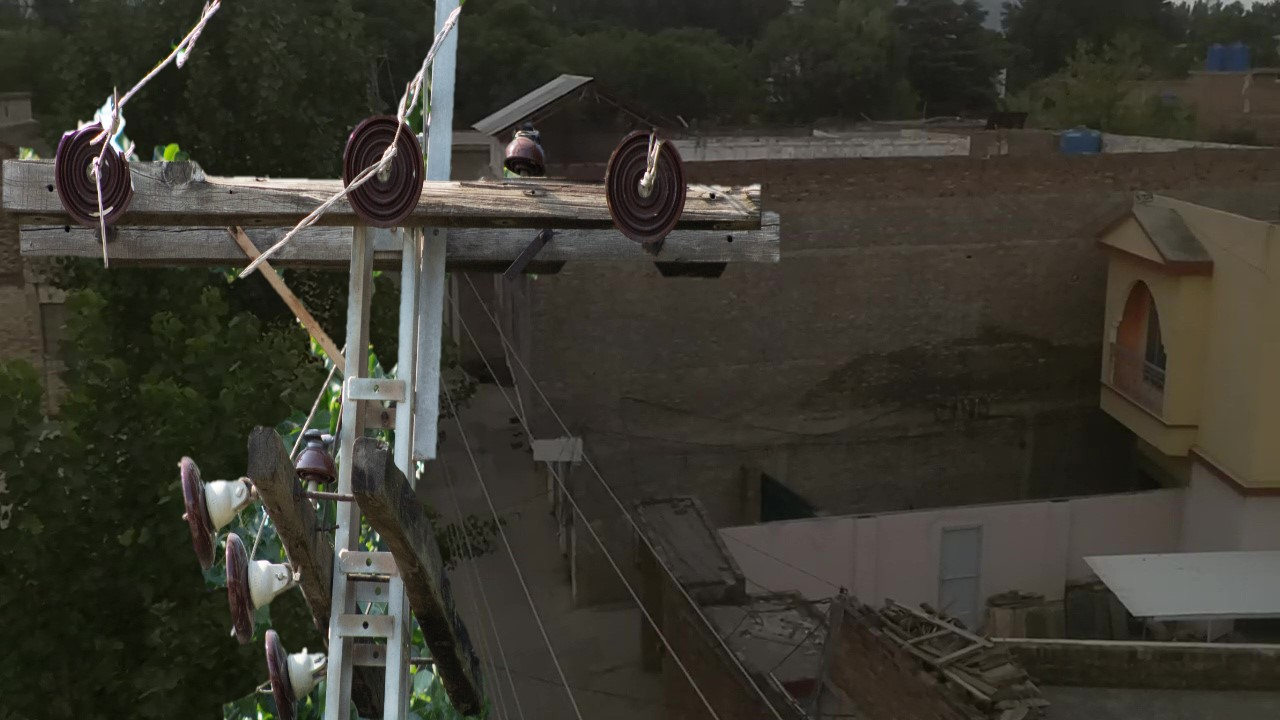defect_disc: (52, 108, 140, 221)
insulator_disc: (597, 127, 692, 242), (335, 105, 428, 219), (211, 533, 268, 651), (171, 445, 221, 556), (246, 629, 318, 694)
insulator_pin: (497, 118, 554, 180), (293, 428, 342, 490)
